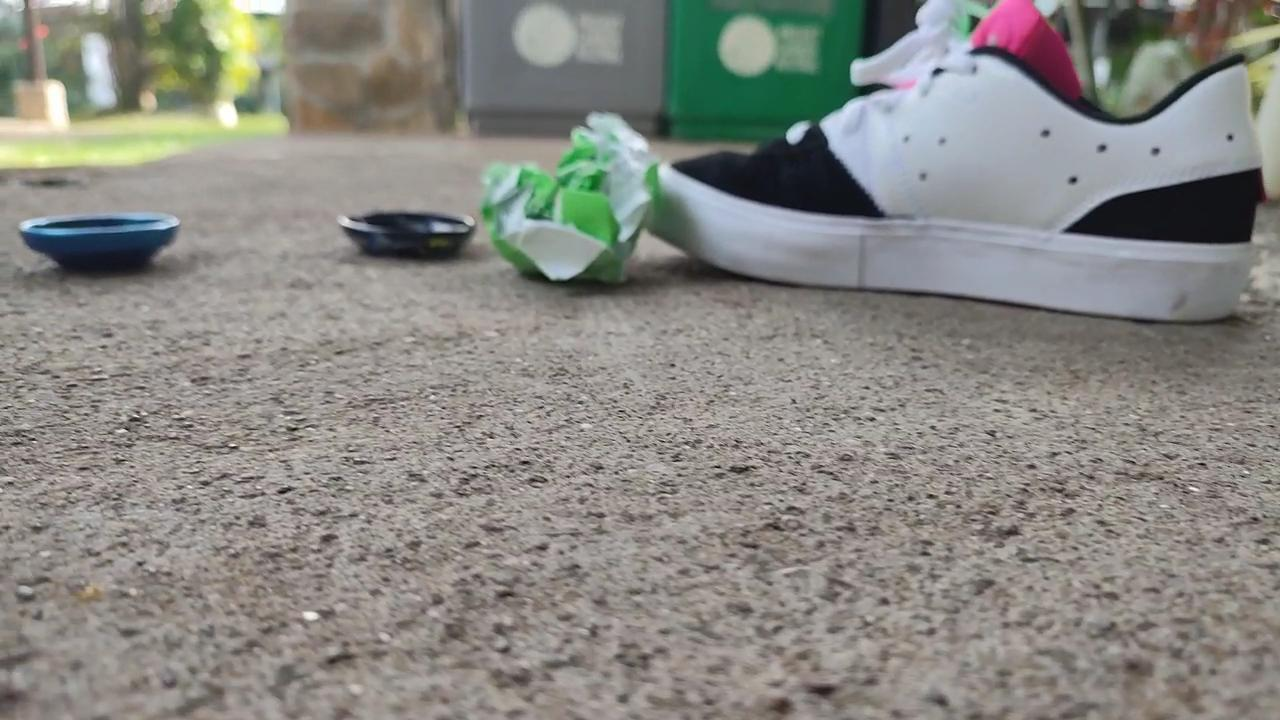Paper: (467, 99, 674, 308)
